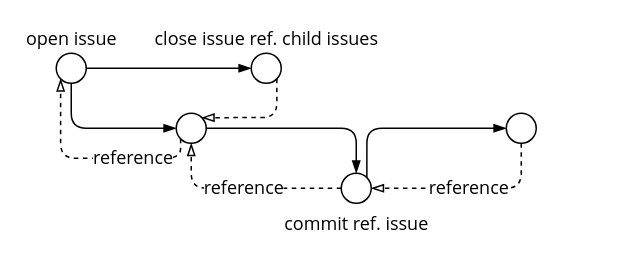
The diagram is 623 pixels wide and 260 high, and some of its shapes have lost their labels. Each missing label, with the box of its shape:
close ref. commits: (505, 112, 536, 143)
open child issues: (175, 112, 206, 143)
